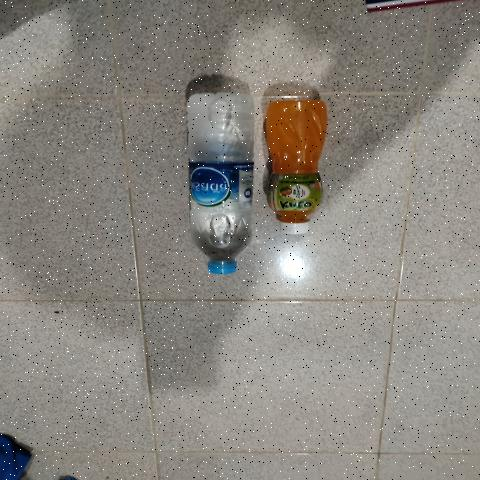crystal: (187, 77, 254, 284)
